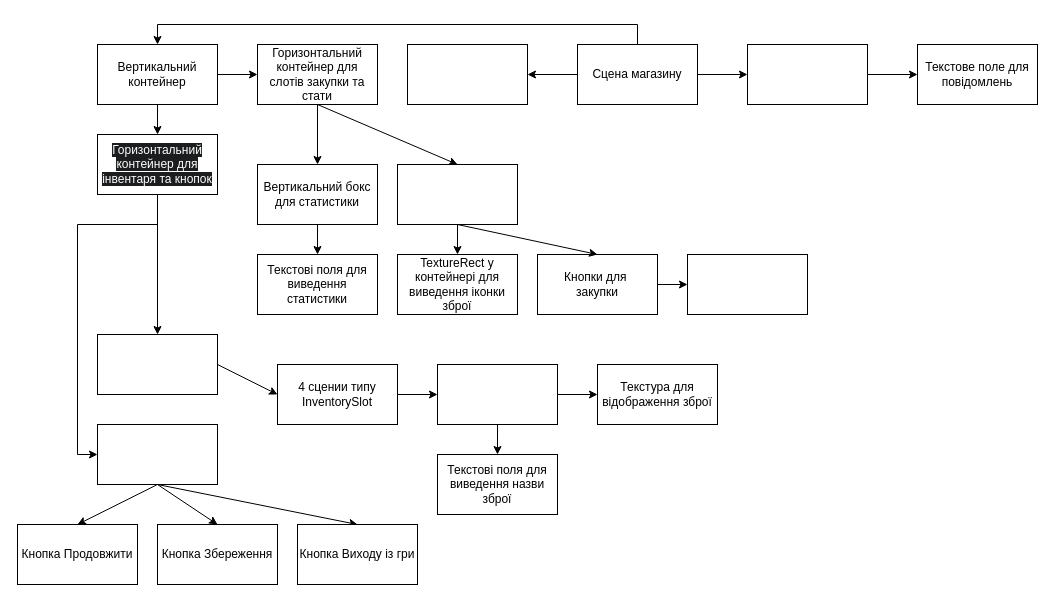
This 1055x602 diagram has some shape labels left out. Here are the shapes that lost their labels. From the top down, the centre of each, then its label:
At (467,74): "Фонове зображення TextureRect".
At (807,74): "Контейнер повідомлення".
At (457,194): "Вертикальний бокс для слотів закупки".
At (747,284): "Текстові поля для виведення ціни та опису зброї".
At (157,364): "Вертикальний бокс для інвентаря".
At (497,394): "Кнопка для очищення інвентаря".
At (157,454): "Вертикальний бокс для кнопок".
